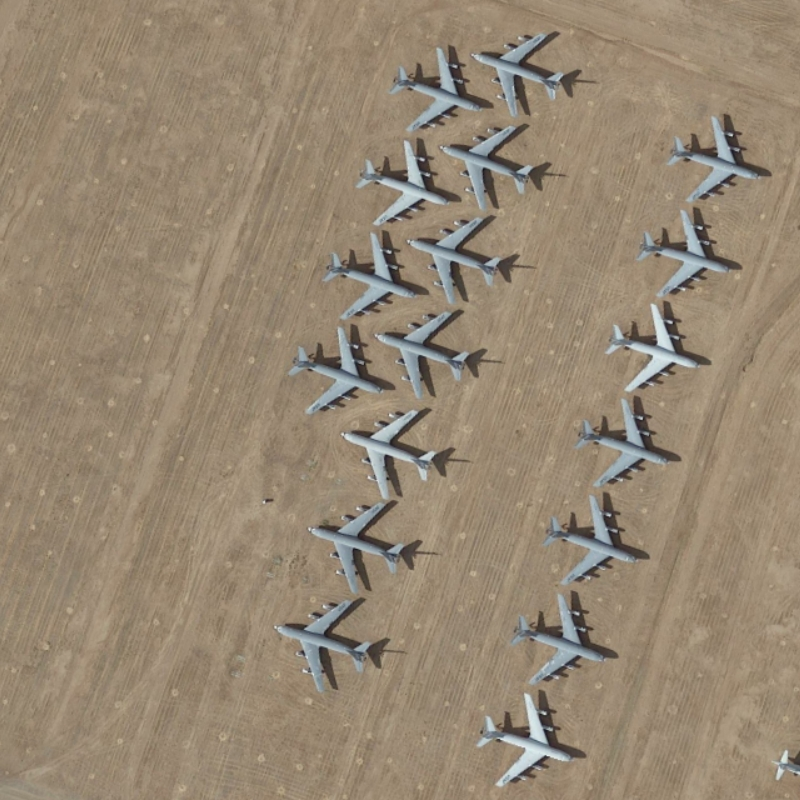A14: (265, 596, 385, 704), (328, 405, 452, 502), (506, 589, 617, 691), (302, 496, 407, 602), (540, 492, 650, 589), (398, 215, 512, 308), (467, 692, 578, 787), (601, 300, 711, 394), (666, 109, 768, 208), (434, 122, 543, 214), (283, 319, 386, 416), (636, 205, 735, 305), (568, 394, 670, 489), (469, 26, 572, 120), (319, 226, 419, 322), (377, 309, 481, 401), (352, 138, 454, 228), (388, 41, 482, 130)
